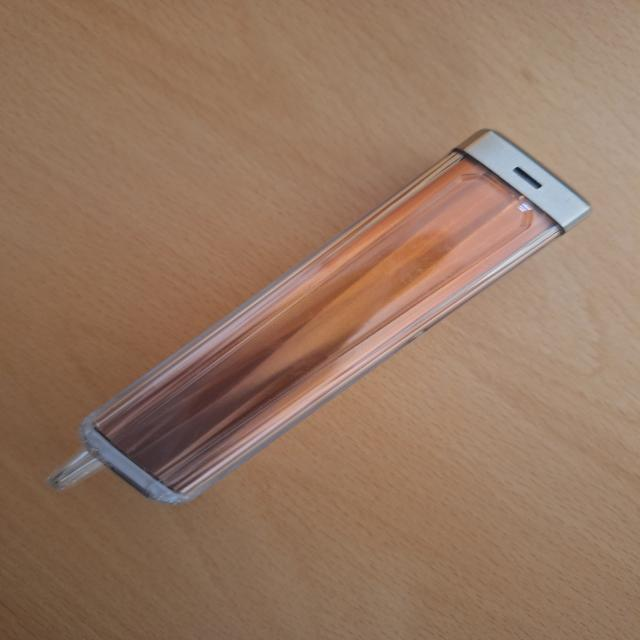Hazard: (44, 127, 592, 506)
